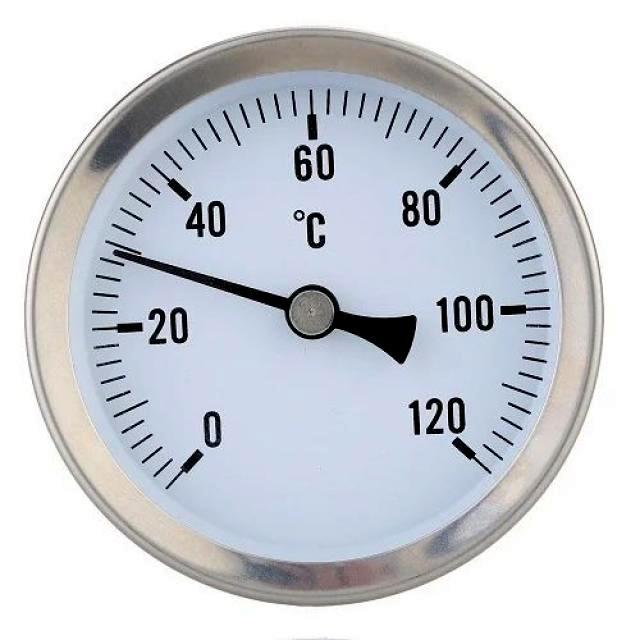Needle_Tip: (87, 239, 191, 283)
Needle_base: (279, 273, 344, 350)
max_value: (376, 386, 498, 460)
min_value: (178, 397, 242, 469)
